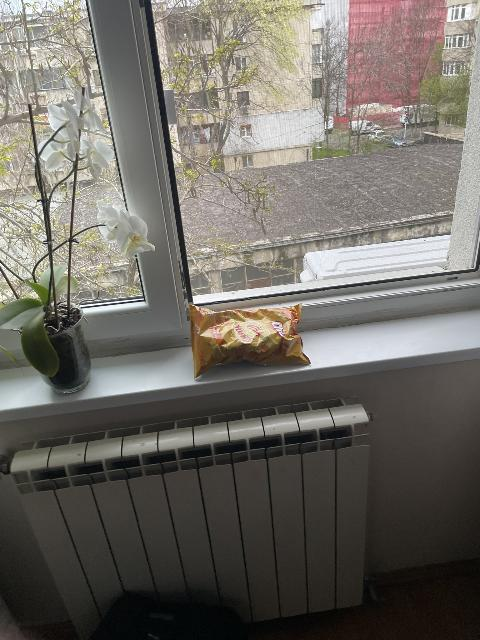Chio Hula Hoops Cheese 70g: (189, 303, 309, 378)
